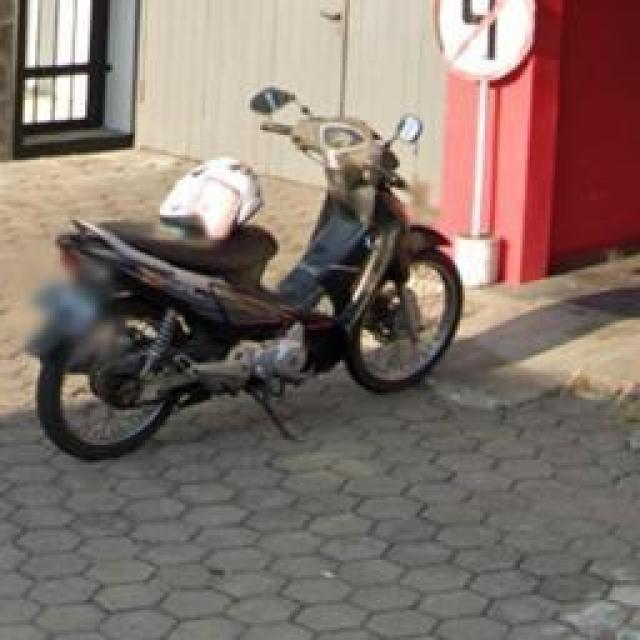motorcycle: (27, 88, 465, 460)
